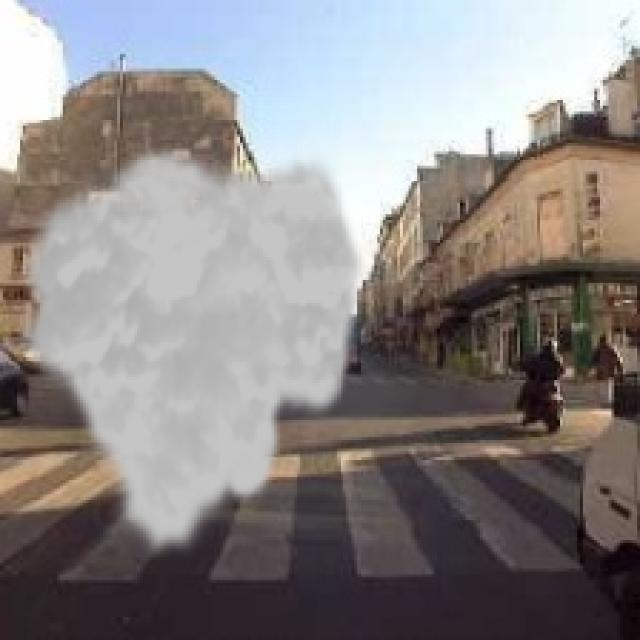Smoke: (11, 143, 368, 563)
